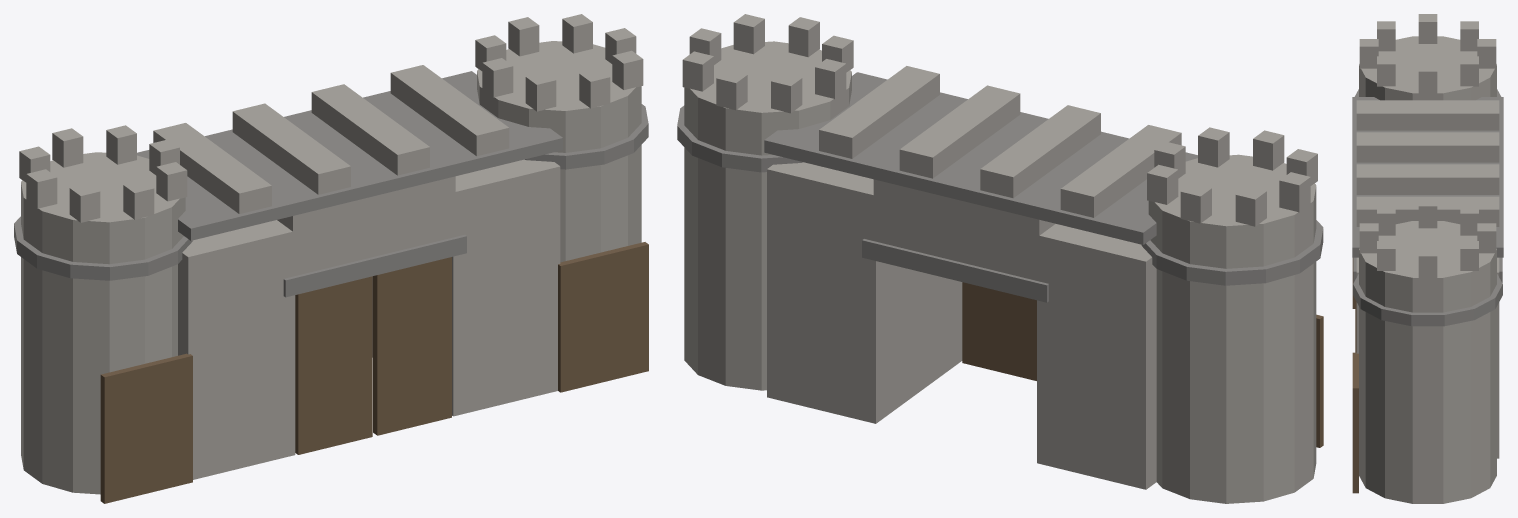
File: gatehouse.glb
The picture shows the model from 3 angles, left to right: view 1: azimuth 30°, elevation 25°; view 2: azimuth 150°, elevation 25°; view 3: azimuth 270°, elevation 25°; orthographic projection. The views are drawn at different scales.
Parts seen in each view (by area): view 1: gatehouse; view 2: gatehouse; view 3: gatehouse.
Part boxes in pixels (x1,y1,x2,y2): gatehouse: [14, 14, 648, 503]; gatehouse: [677, 14, 1323, 503]; gatehouse: [1352, 14, 1503, 503].
Bounding box in the file's own units: 13.08 × 6.14 × 3.4.
